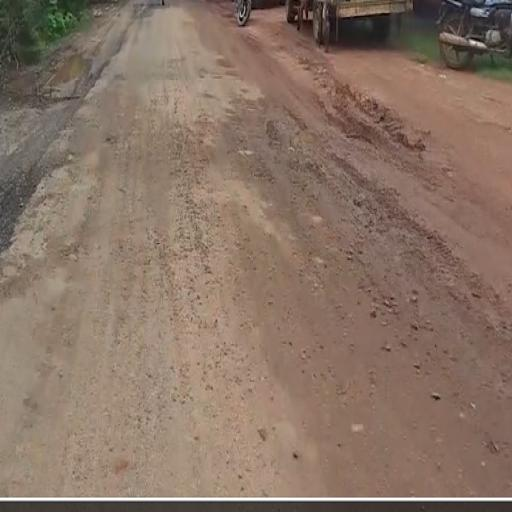ravelling: (106, 92, 268, 291)
